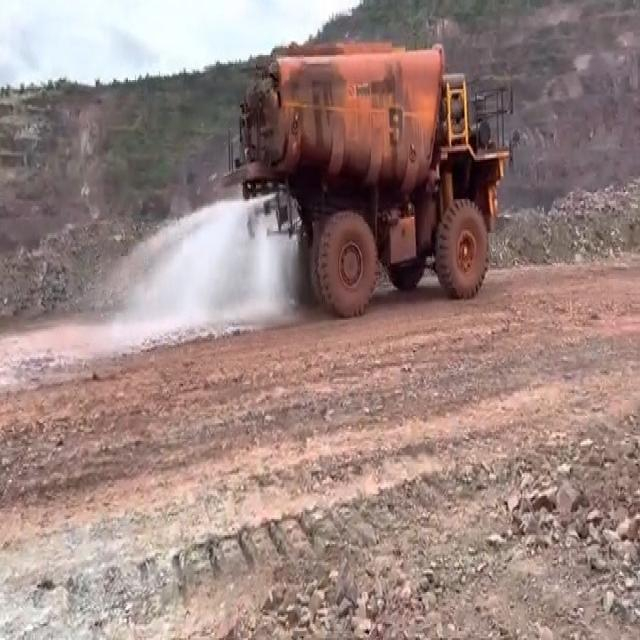dump_truck: (242, 40, 514, 298)
